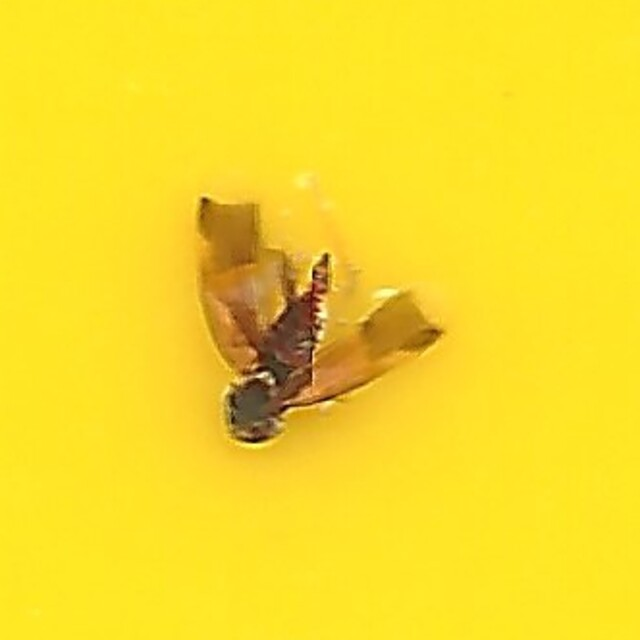Hemiptera: (193, 193, 447, 447)
